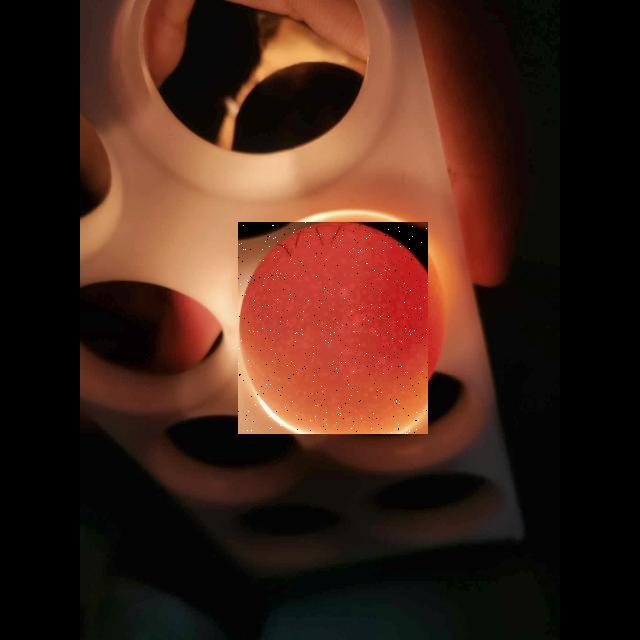Infertile: (238, 222, 428, 434)
